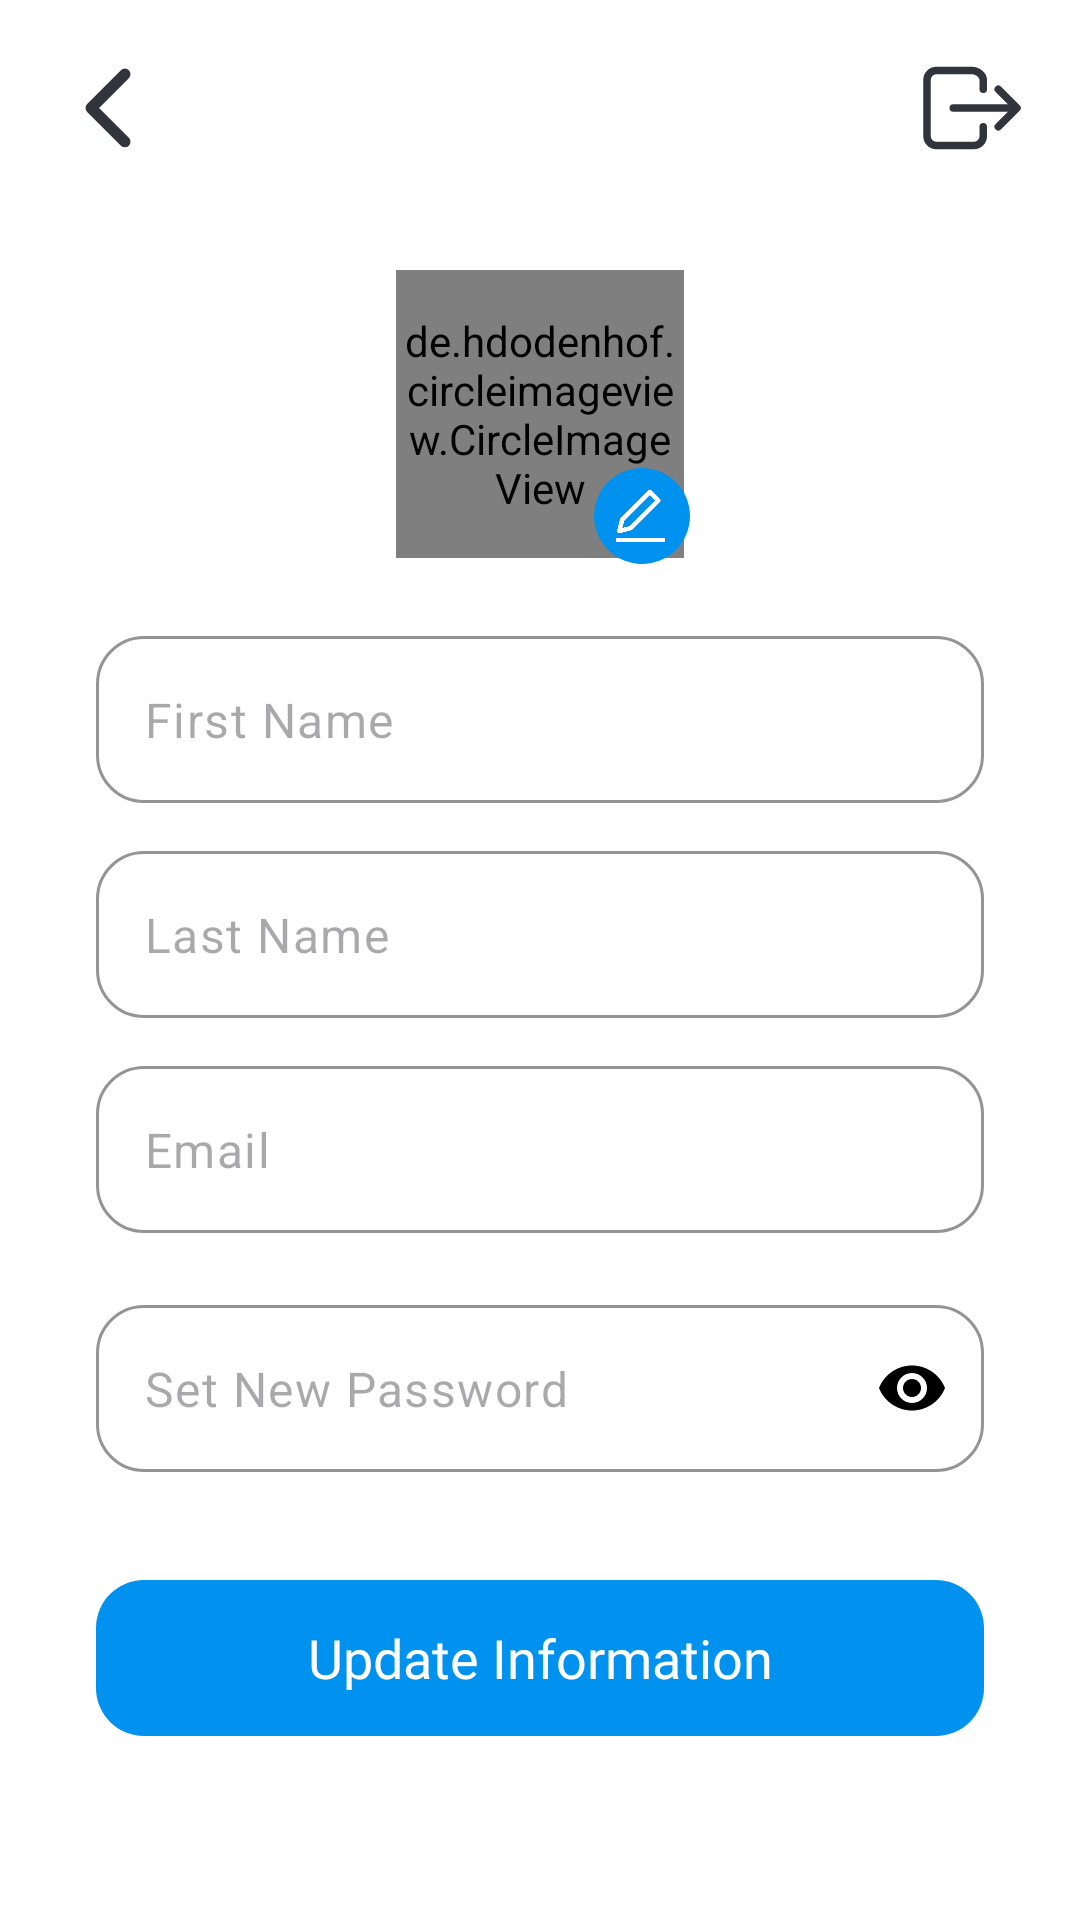

Named icons in this screenshot (1080 × 1920) and their bounding boxes, region(x1, y1, x2, y2):
back: region(85, 68, 131, 148)
edit: region(616, 490, 665, 542)
